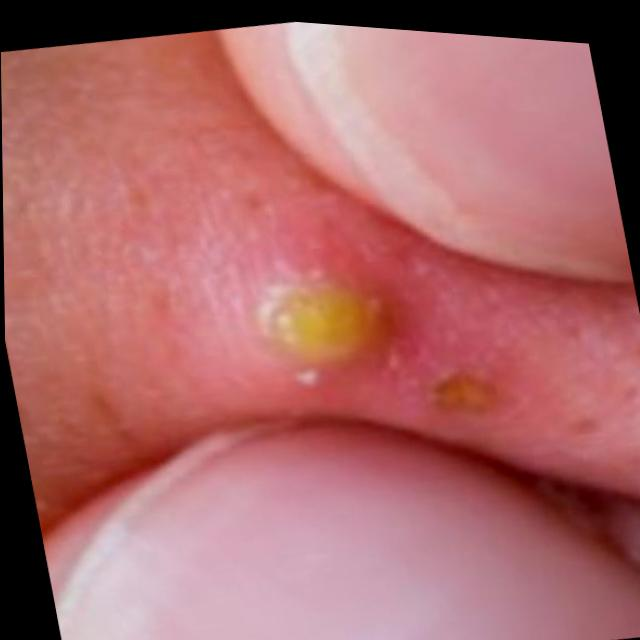pustule: (235, 220, 407, 364)
